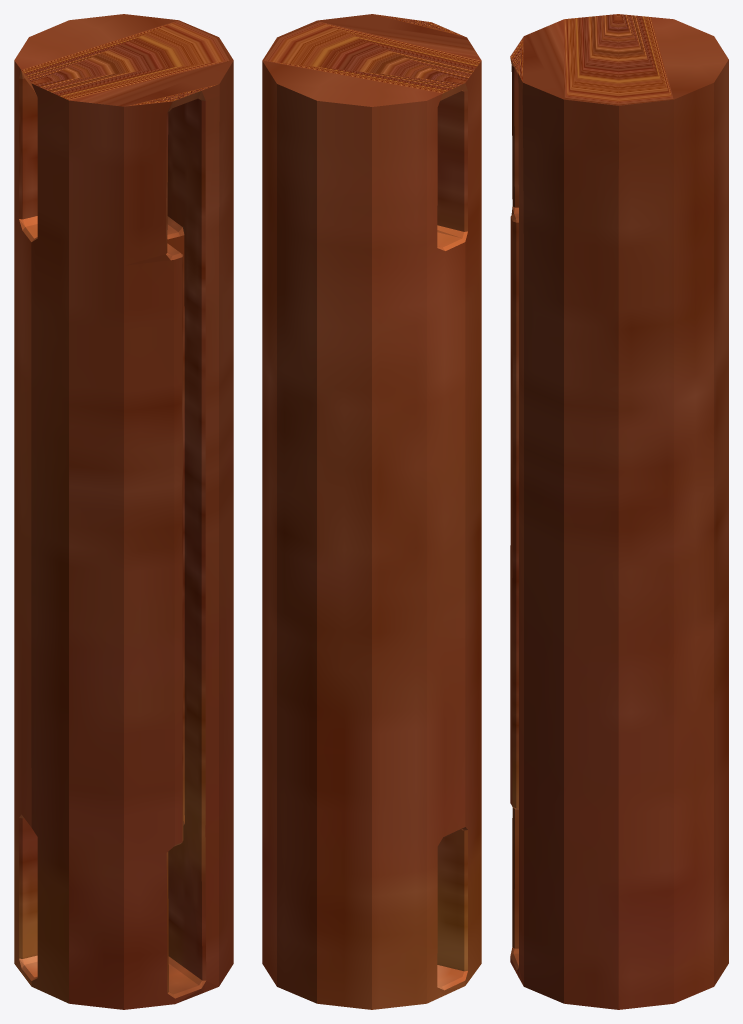
The model's file is SJ_J_tui_01.FBX.
3 views of the same model, side by side, from view 1: azimuth 30°, elevation 25°; view 2: azimuth 150°, elevation 25°; view 3: azimuth 270°, elevation 25° (orthographic).
Visible parts, largest first — view 1: SJ_J_tui_01; view 2: SJ_J_tui_01; view 3: SJ_J_tui_01.
Part boxes in pixels (<box>): SJ_J_tui_01: <box>14,14,233,1009</box>; SJ_J_tui_01: <box>262,14,481,1009</box>; SJ_J_tui_01: <box>510,14,728,1009</box>.
Size of the model in its own units: 3.99 by 18.34 by 4.02.
